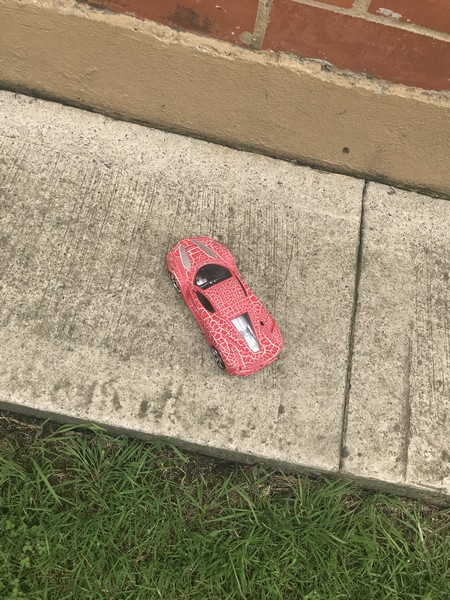RC: (165, 236, 284, 379)
